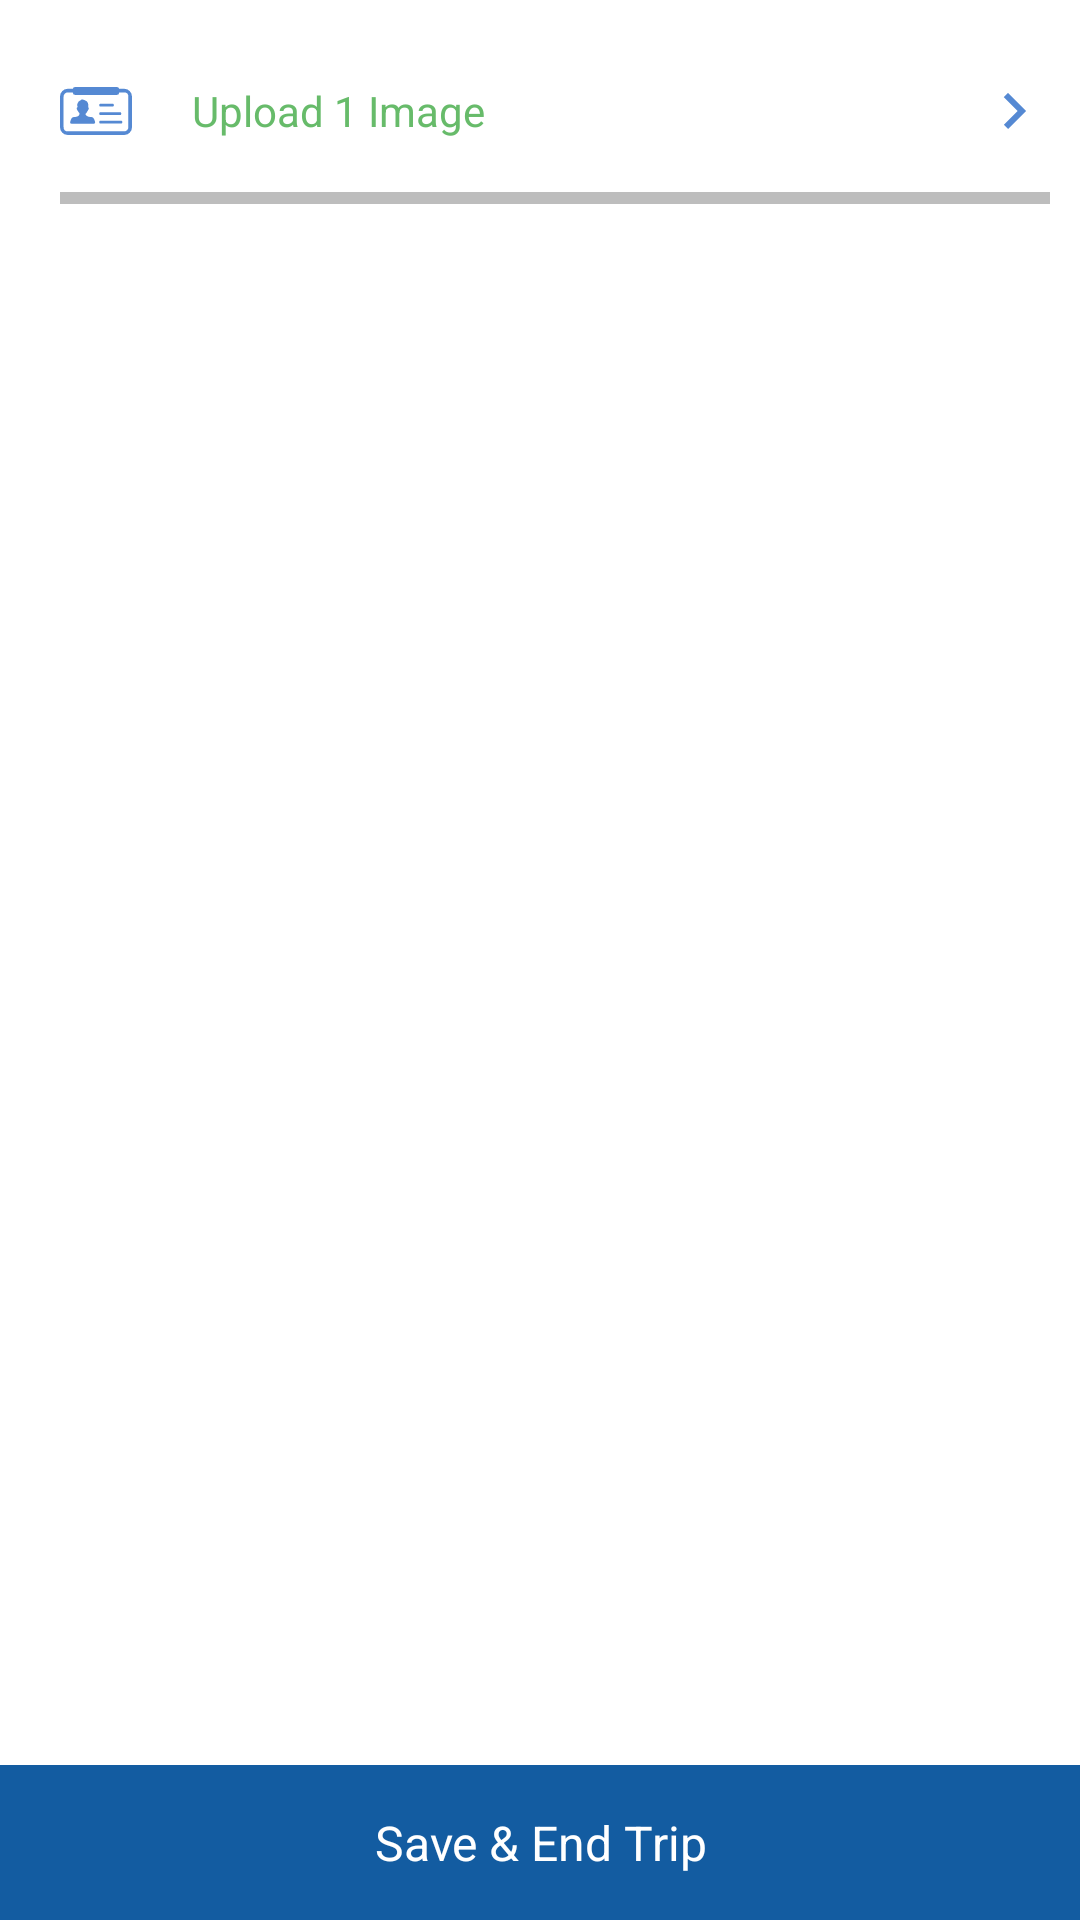

Where icons sit on this 1080w x 1920h app screen, as (x1, y1, x2, y2):
aadhar: (60, 87, 132, 135)
keyboard arrow right: (1004, 93, 1026, 129)
